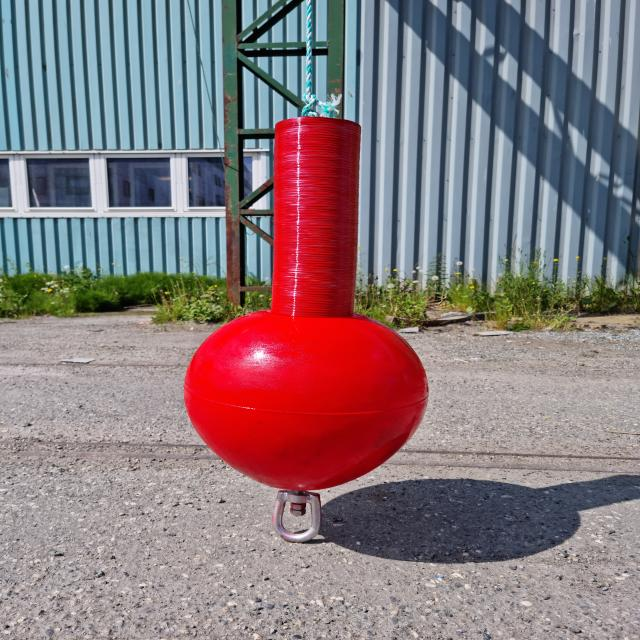red: (182, 115, 430, 492)
